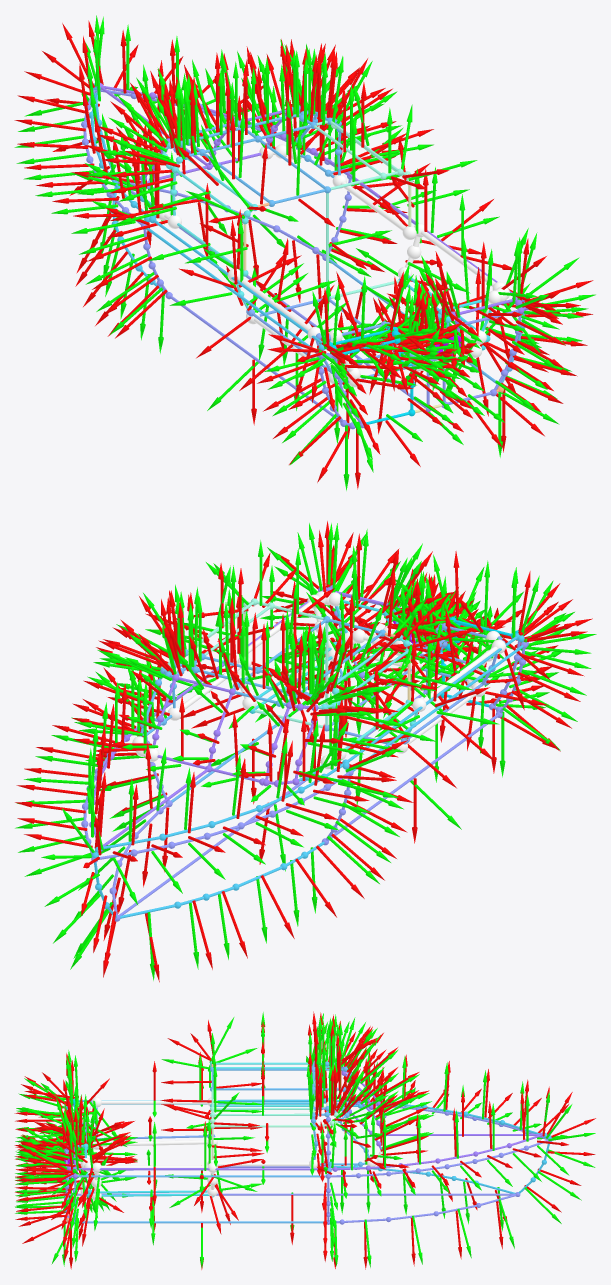
File: flowrep_boat.gltf
3 renders of one model, top to bottom at view 1: azimuth 30°, elevation 25°; view 2: azimuth 150°, elevation 25°; view 3: azimuth 270°, elevation 25°, orthographic. The views are drawn at different scales.
Bounding box in the file's own units: 0.5272 × 0.421 × 1.11.
